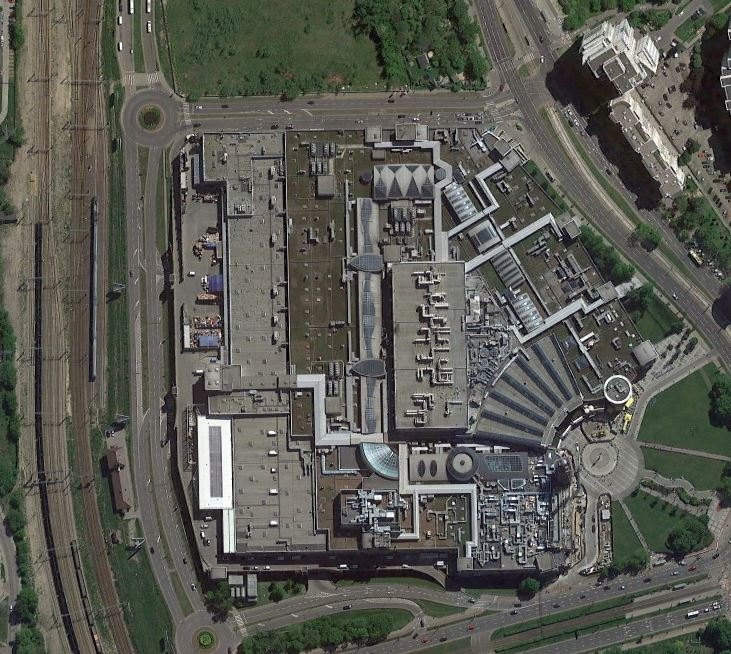block of flats: (601, 92, 691, 204), (574, 13, 668, 100)
shopping_center: (170, 118, 625, 594)
